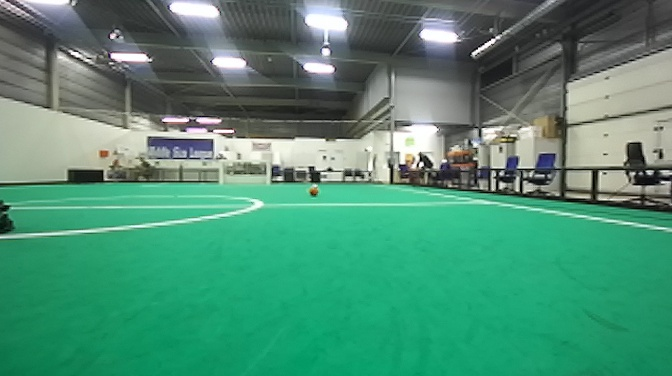ball: (304, 182, 322, 199)
goal: (218, 159, 270, 189)
goalpost: (219, 159, 224, 188), (266, 158, 270, 188)
